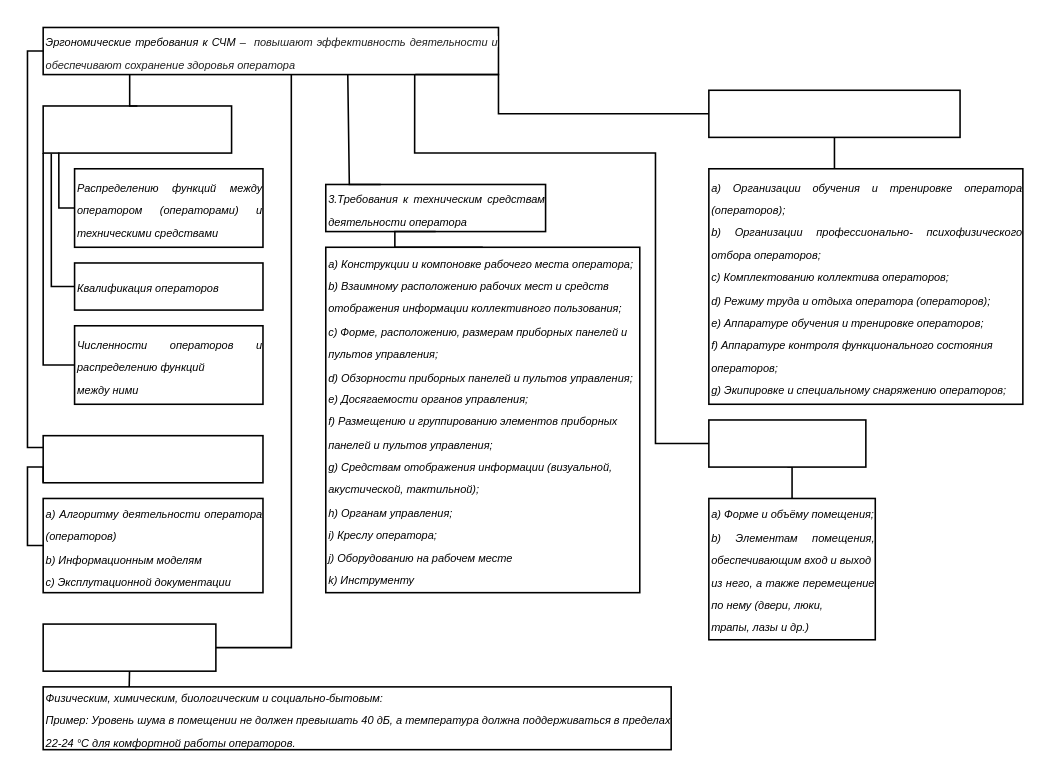
This 1050x779 diagram has some shape labels left out. Here are the shapes that lost their labels. From the top down, the centre of each, then its label:
At [137,128]: "1.Требования к организации СЧМ".
At [833,113]: "4.Требования к формированию и поддержанию работоспособности операторов".
At [152,458]: "2.Требования к организации деятельности оператора".
At [786,442]: "5.Требования к обитаемым помещениям".
At [129,647]: "6.Требования к факторам внешней среды".
